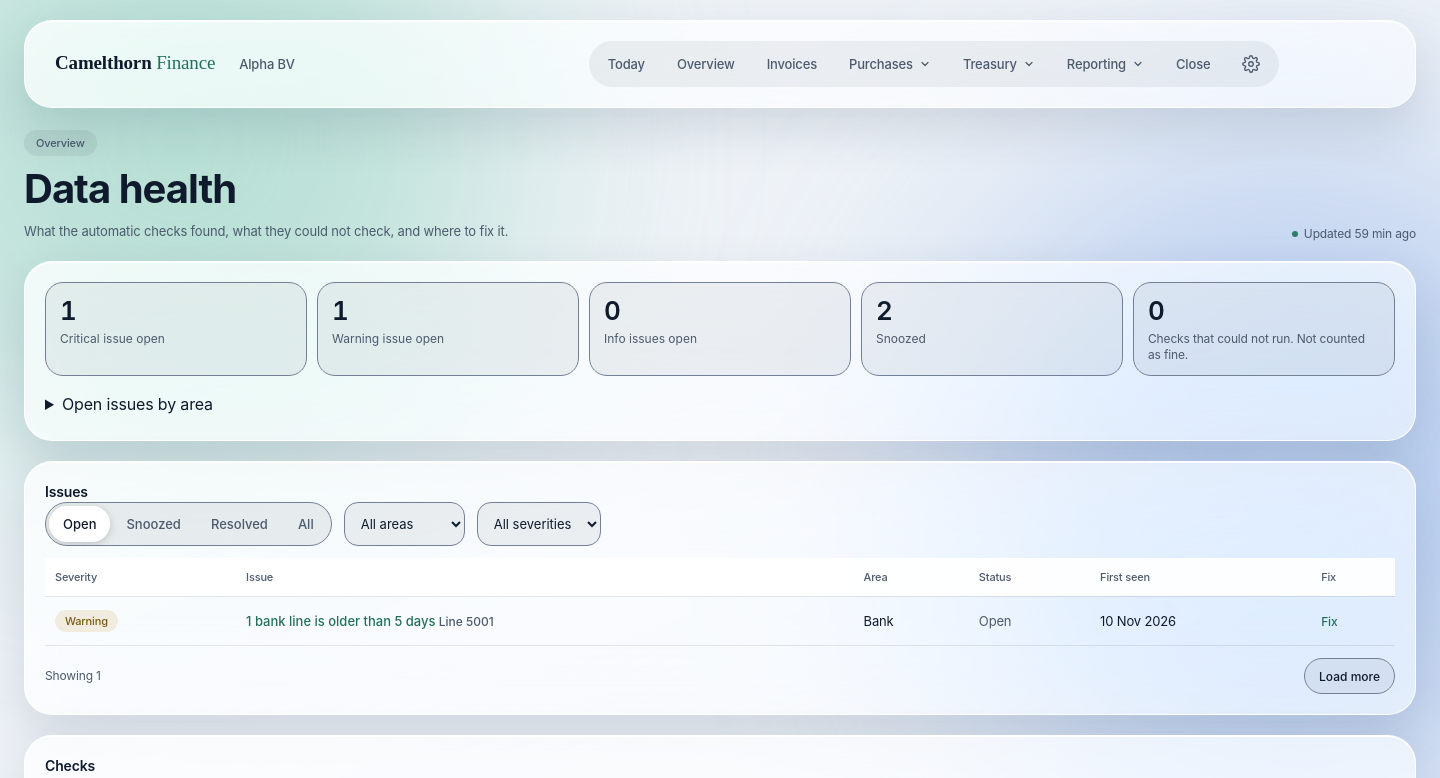
issues › pages with Load more
Expected: the heading "Data health" is shown, [24,164,236,213]
Click the button "Load more": (1350, 676) [1304,658,1395,694]
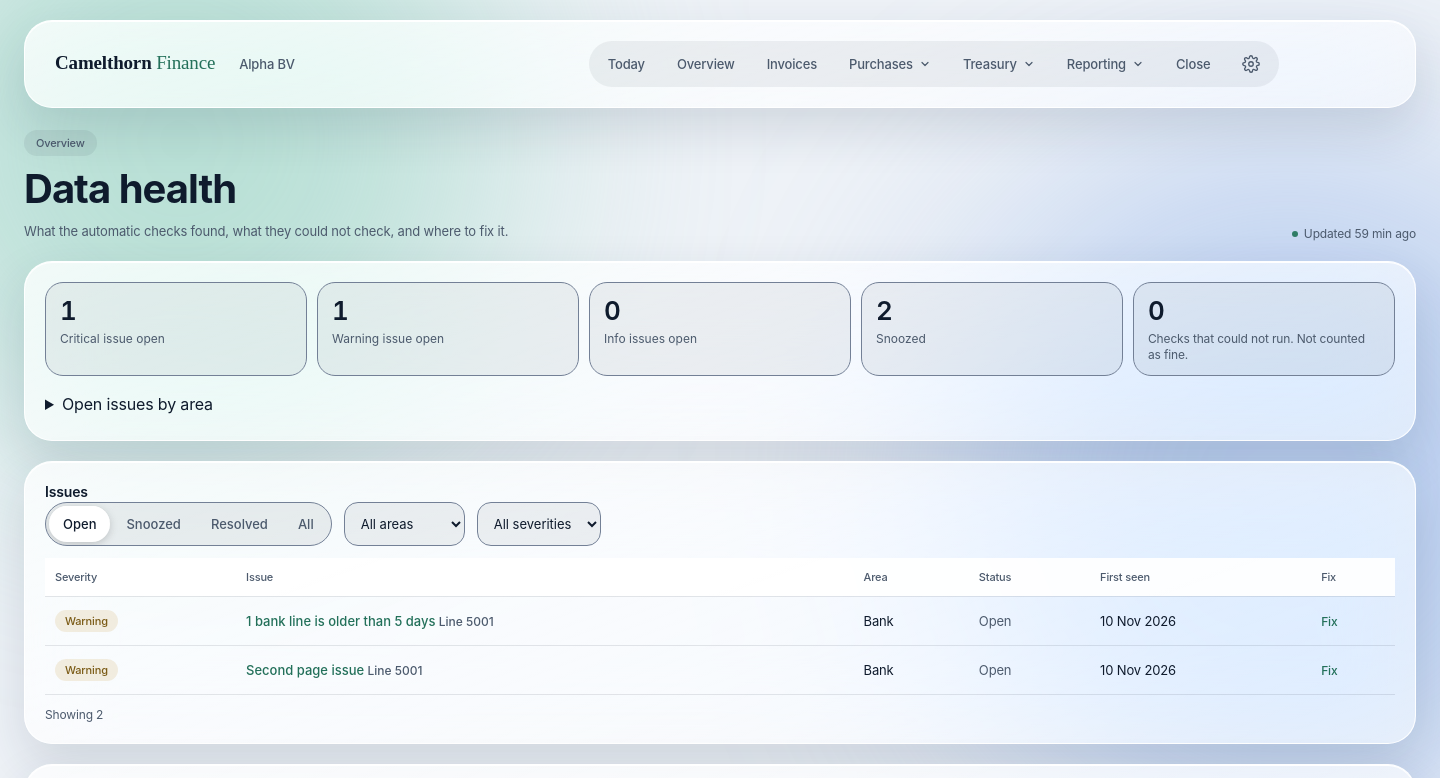
Expected: the button "Second page issue Line 5001" is shown, [246,658,422,682]
